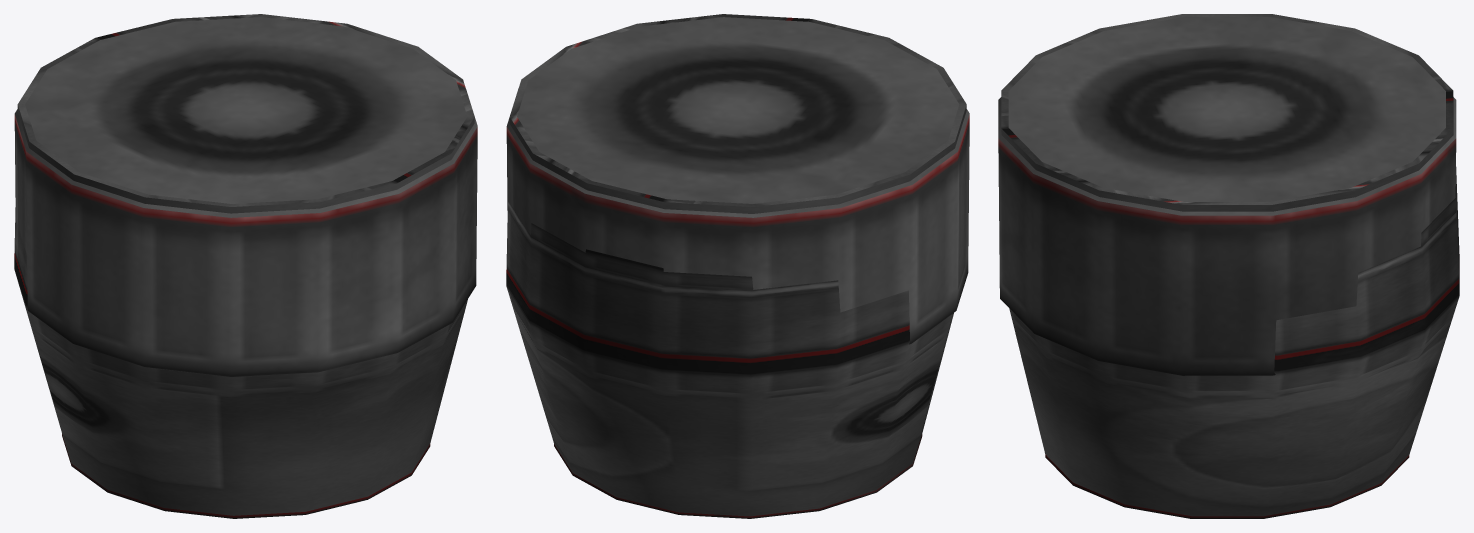
Rendered from Mercury_Cap.FBX.
3 renders of one model, left to right at view 1: azimuth 30°, elevation 25°; view 2: azimuth 150°, elevation 25°; view 3: azimuth 270°, elevation 25°, orthographic.
Visible parts, largest first — view 1: Mercury_Cap, Coll; view 2: Mercury_Cap, Coll; view 3: Mercury_Cap, Coll.
Boxes of the visible parts, left/top/right/bottom form: Mercury_Cap: left=14, top=17, right=477, bottom=518; Coll: left=14, top=14, right=474, bottom=515; Mercury_Cap: left=506, top=17, right=969, bottom=518; Coll: left=506, top=14, right=966, bottom=516; Mercury_Cap: left=998, top=17, right=1456, bottom=518; Coll: left=1001, top=14, right=1459, bottom=516.
Bounding box in the file's own units: 61.49 × 49.27 × 61.94.
Materials: 1 (1 with a texture image).
